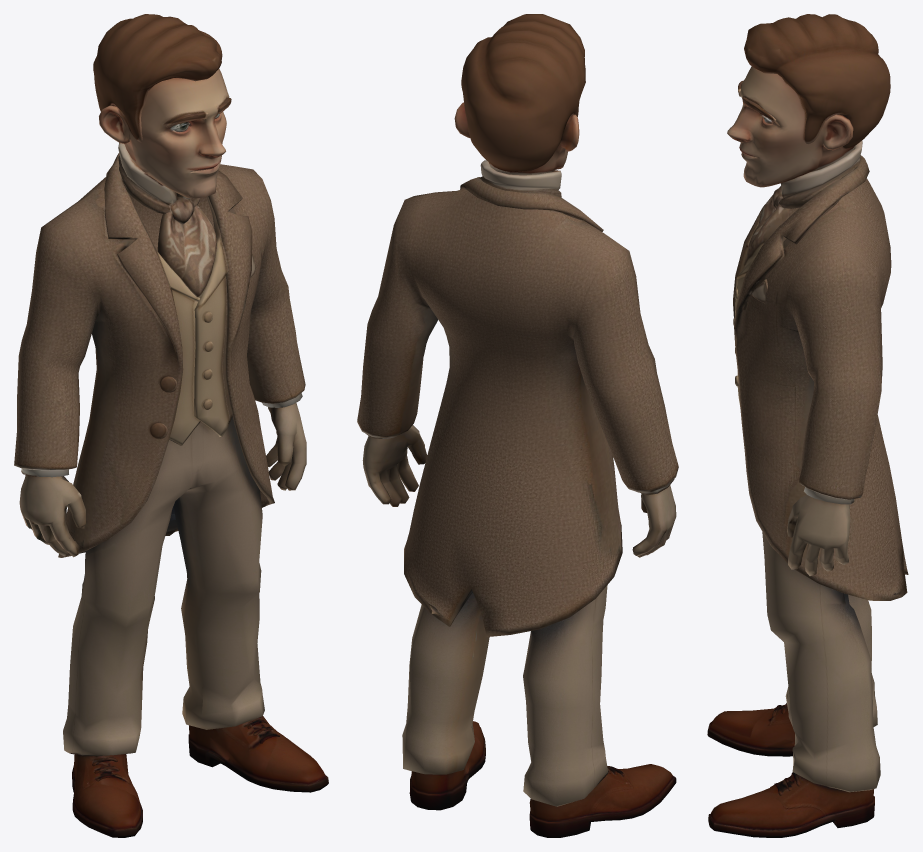
File: tripo_convert_db4c53da-2791-40cc-8db2-07483b592af3.fbx
3 views of the same model, side by side, from view 1: azimuth 30°, elevation 25°; view 2: azimuth 150°, elevation 25°; view 3: azimuth 270°, elevation 25° (orthographic).
Visible parts, largest first — view 1: tripo_node_db4c53da; view 2: tripo_node_db4c53da; view 3: tripo_node_db4c53da.
Boxes of the visible parts, <box> form: tripo_node_db4c53da: <box>14,14,328,837</box>; tripo_node_db4c53da: <box>357,14,678,837</box>; tripo_node_db4c53da: <box>707,14,908,837</box>.
Bounding box in the file's own units: 0.4058 × 0.9995 × 0.2397.
Materials: 1 (1 with a texture image).
